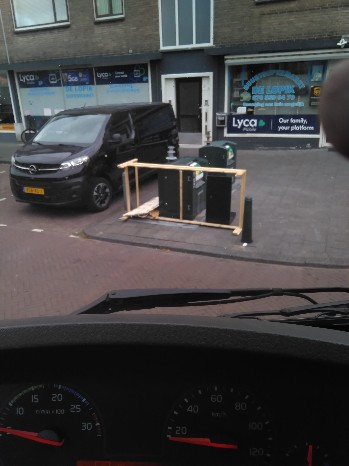Container: (170, 155, 206, 214), (205, 140, 235, 174)
Rest: (120, 162, 242, 230)
Voertuig: (31, 109, 157, 203)
